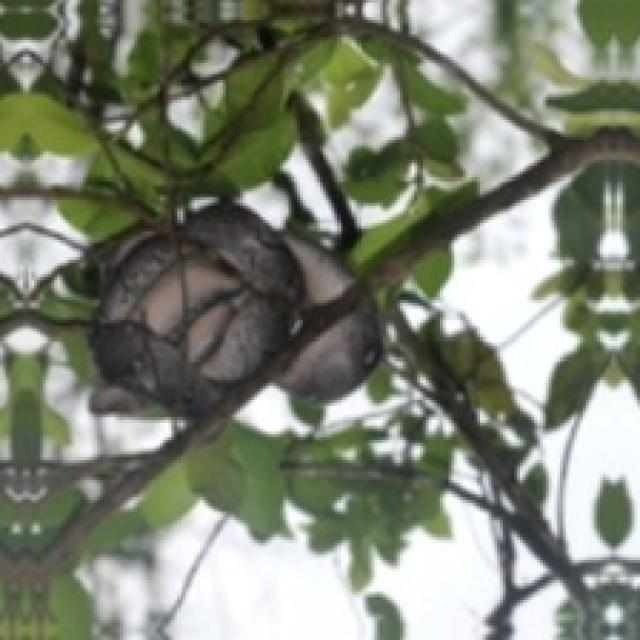reticulated python: (91, 203, 380, 414)
